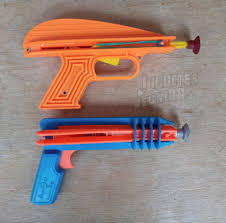Arma Falsa: (22, 16, 202, 115), (31, 118, 192, 206)
